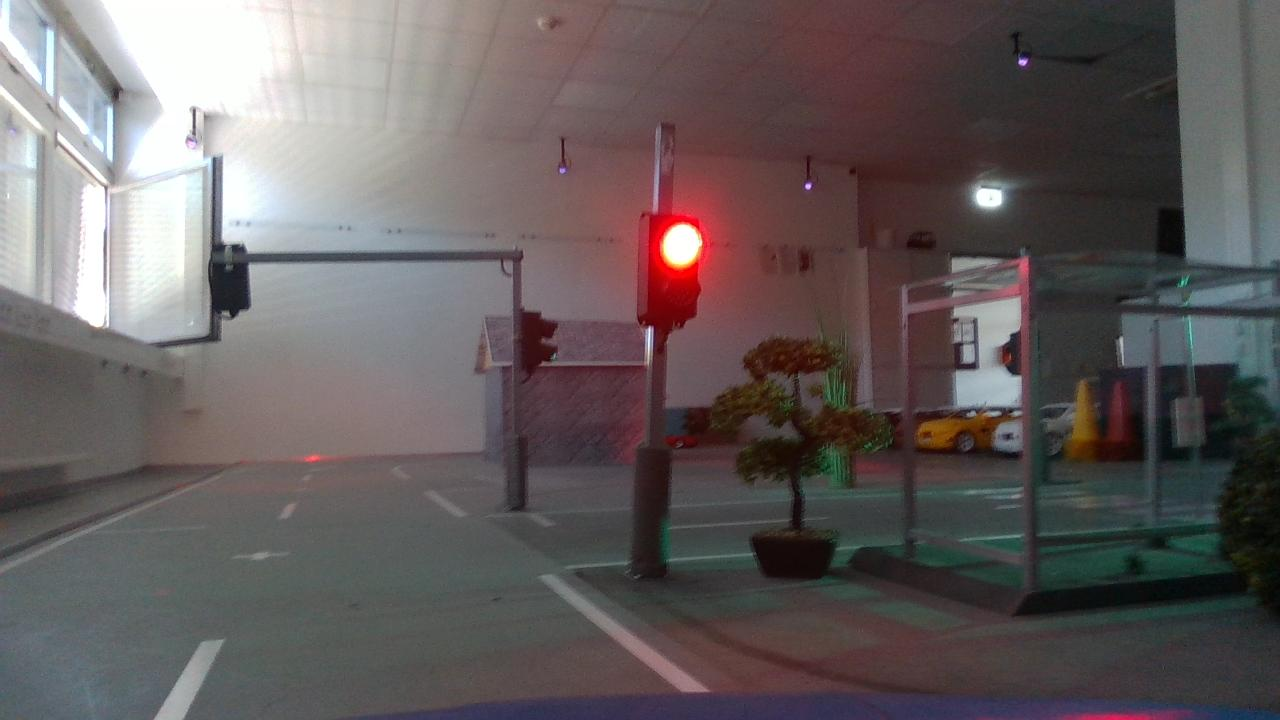traffic_light_red: (627, 198, 723, 355)
